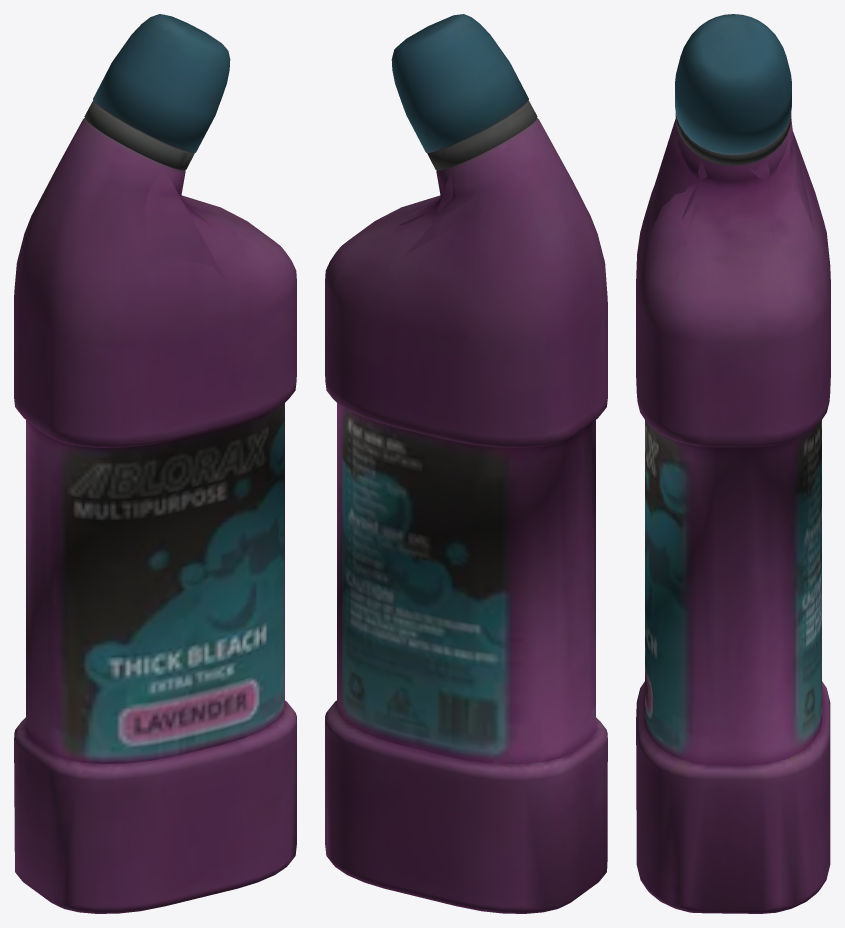
Rendered from bleach_bottle.glb.
3 views of the same model, side by side, from view 1: azimuth 30°, elevation 25°; view 2: azimuth 150°, elevation 25°; view 3: azimuth 270°, elevation 25° (orthographic).
Parts seen in each view (by area): view 1: bleach_bottle, bleach_bottle_lo; view 2: bleach_bottle, bleach_bottle_lo; view 3: bleach_bottle, bleach_bottle_lo.
Boxes of the visible parts, x1,y1,x2,y2 form: bleach_bottle: [14, 14, 296, 913]; bleach_bottle_lo: [62, 131, 244, 841]; bleach_bottle: [325, 14, 607, 913]; bleach_bottle_lo: [335, 143, 559, 849]; bleach_bottle: [636, 14, 830, 913]; bleach_bottle_lo: [640, 68, 813, 763].
Size of the model in its own units: 0.0884 by 0.2936 by 0.0612.
Materials: 1 (1 with a texture image).
